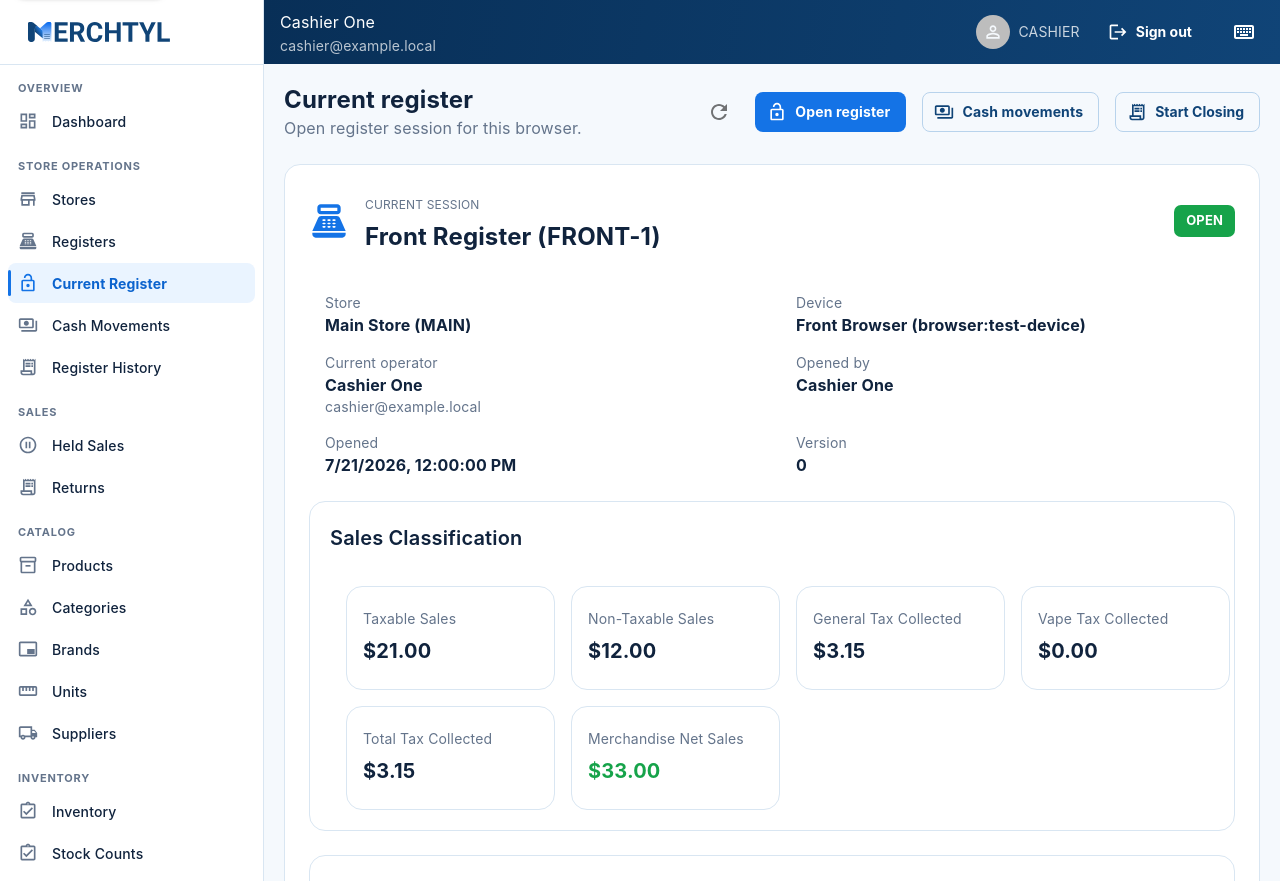
Register session pages › confirms starting closing and restores the closing screen after navigation
Click the button "Start Closing" at (1188, 112), box [1115,92,1260,132]
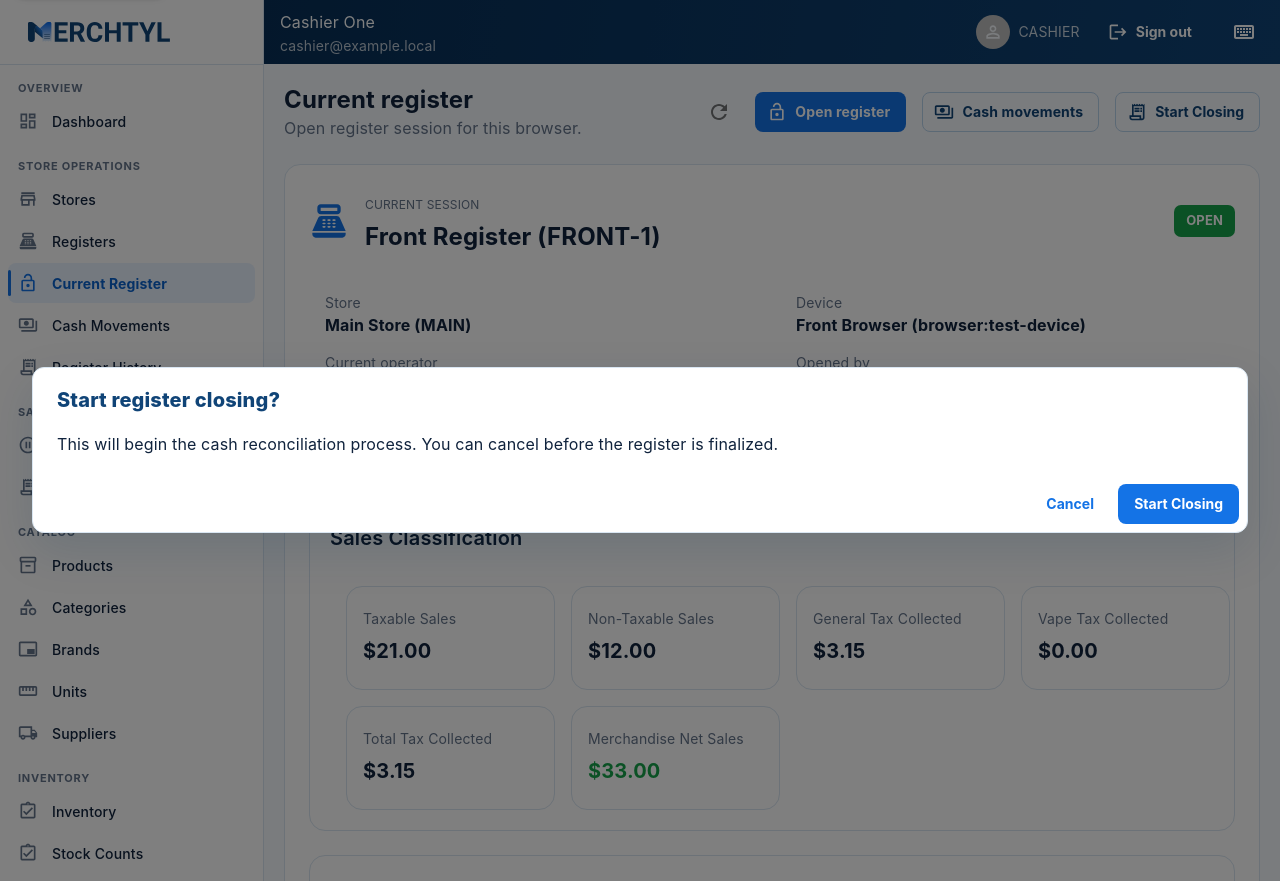
Check: the heading "Start register closing?" is shown, box [57,388,280,412]
Check: the text "This will begin the cash reconciliation process. You can cancel before the register is finalized." is shown, box [57,434,778,454]
Click the button "Start Closing" at (1179, 504), box [1118,484,1239,524]
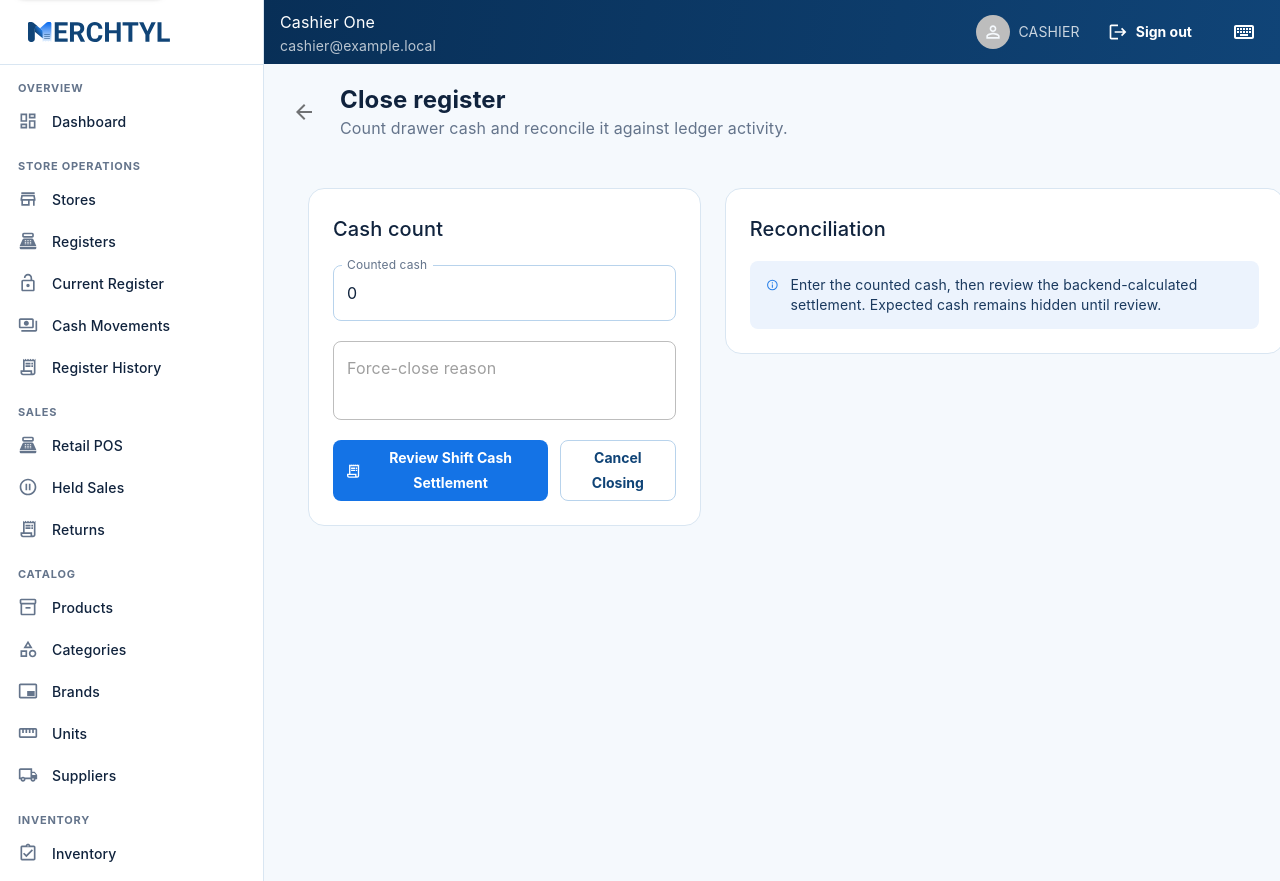
Check: the heading "Close register" is shown, box [340,85,506,114]
Check: the button "Cancel Closing" is enabled, box [560,440,676,501]
Check: the button "Review Shift Cash Settlement" is enabled, box [333,440,548,501]
